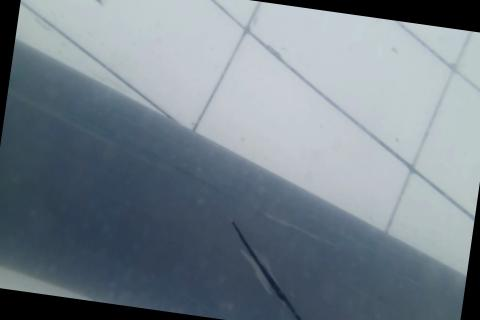keretakan: (218, 217, 329, 320)
